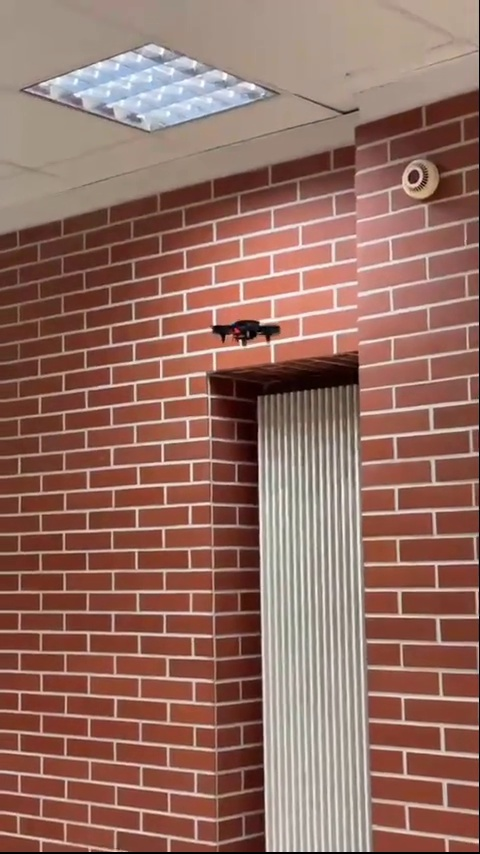drone: (209, 315, 278, 344)
